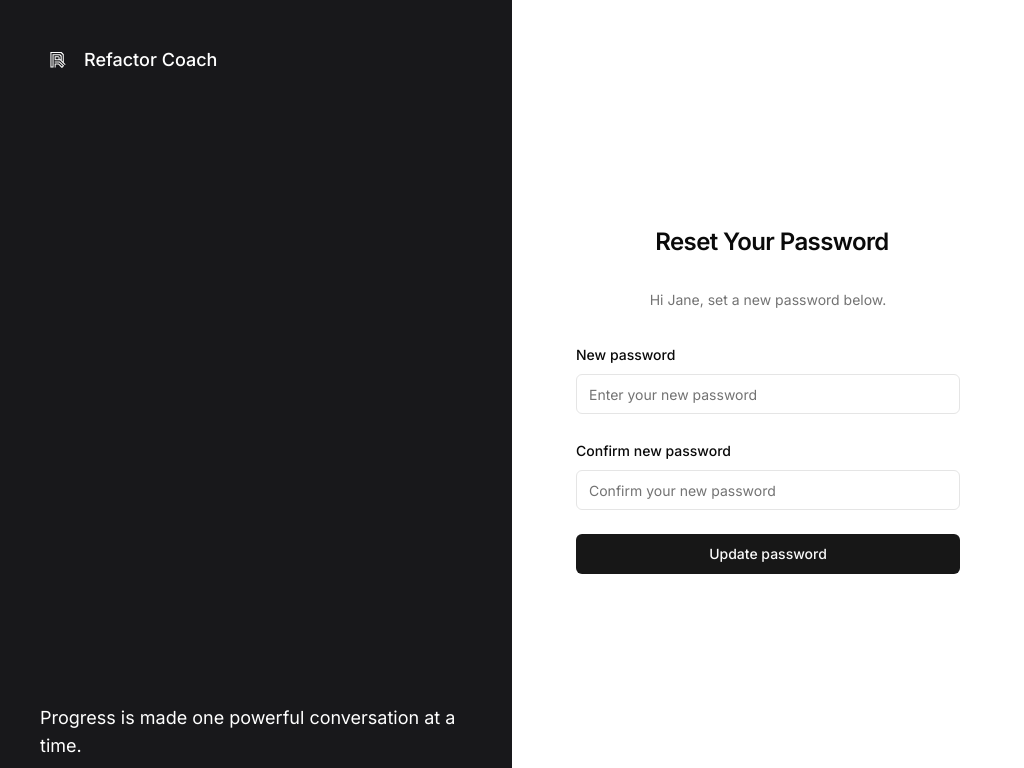
Test case: ResetPasswordPage — complete step › shows the success card to a logged-in user (no auto-logout)
The image size is (1024, 768).
Check: the text "Hi Jane, set a new password below." is shown, box [650,291,886,308]
Type "longenoughpassword" into the password field labelled "New password" at (768, 394), box [576,374,960,414]
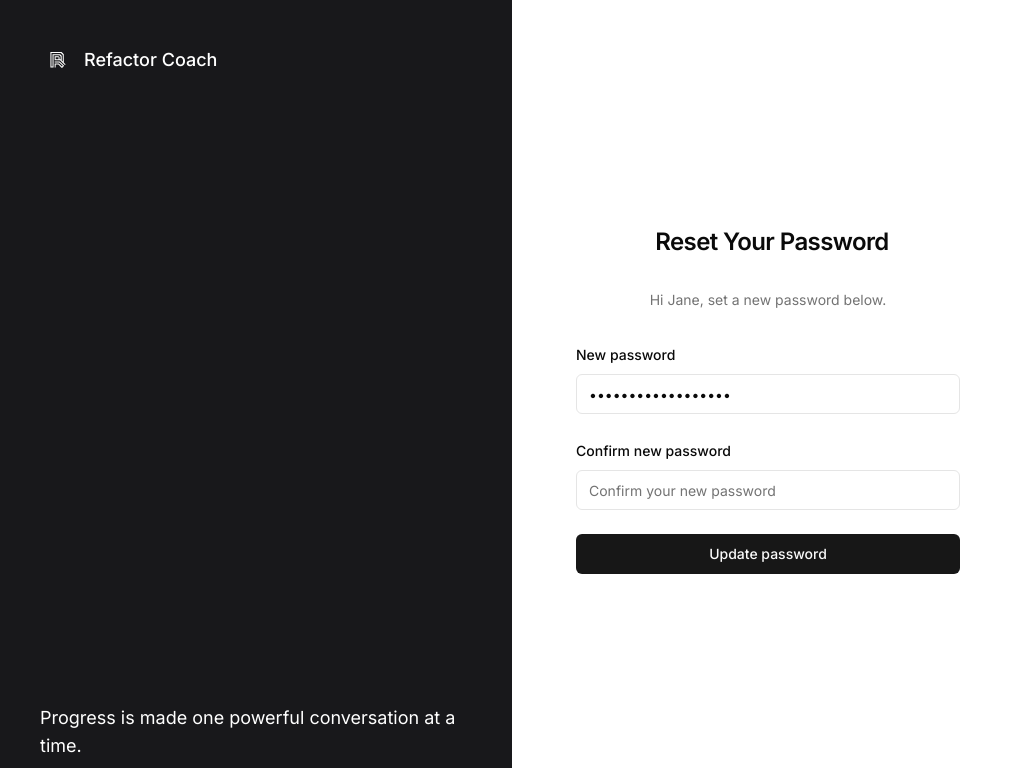
Type "longenoughpassword" into the password field labelled "Confirm new password" at (768, 490), box [576,470,960,510]
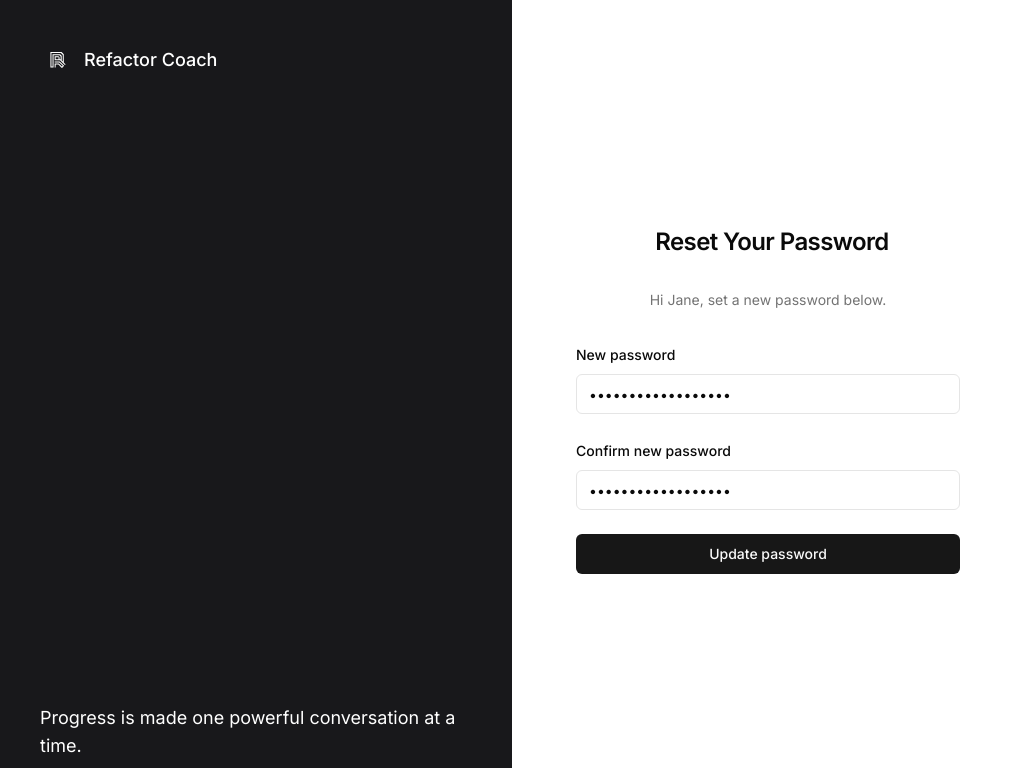
Click the button "Update password" at (768, 554), box [576,534,960,574]
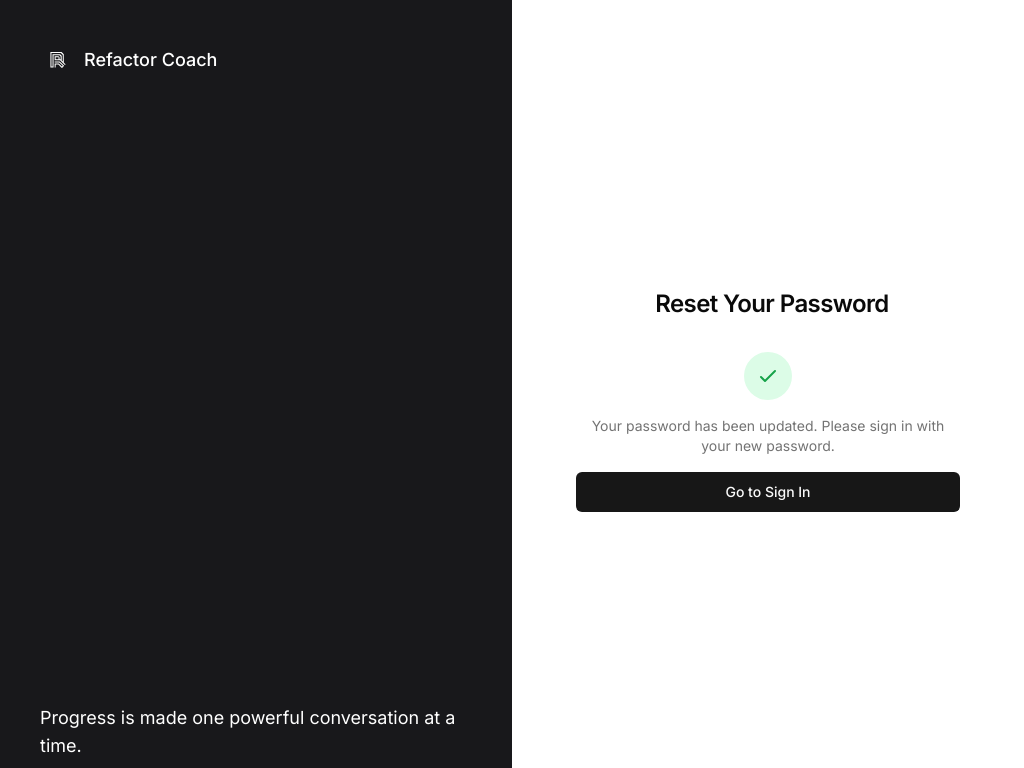
Check: the text "Your password has been updated. Please sign in with your new password" is shown, box [592,417,944,454]
